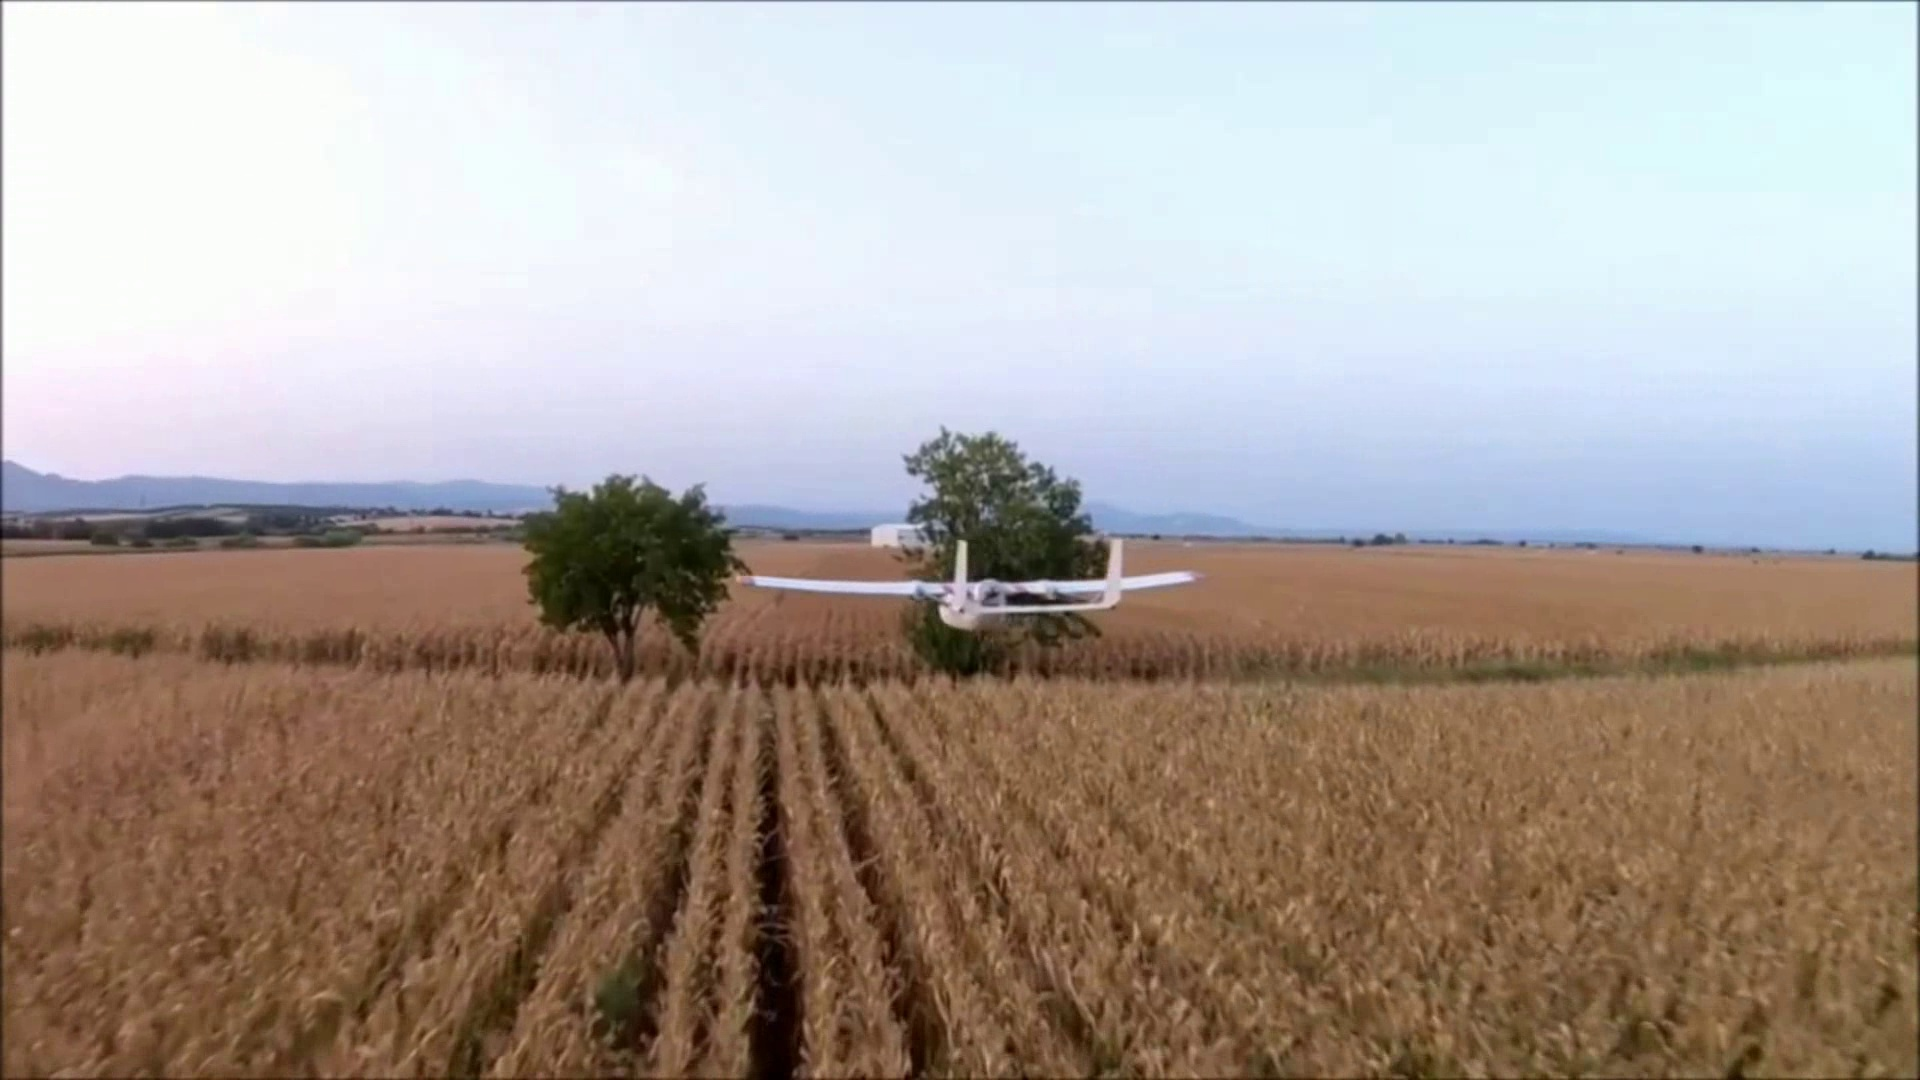airplane: (716, 542, 1203, 640)
